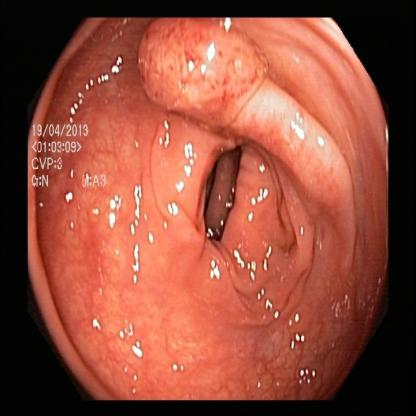Labels: (30, 116, 111, 197)
Polyps: (140, 20, 264, 126)
